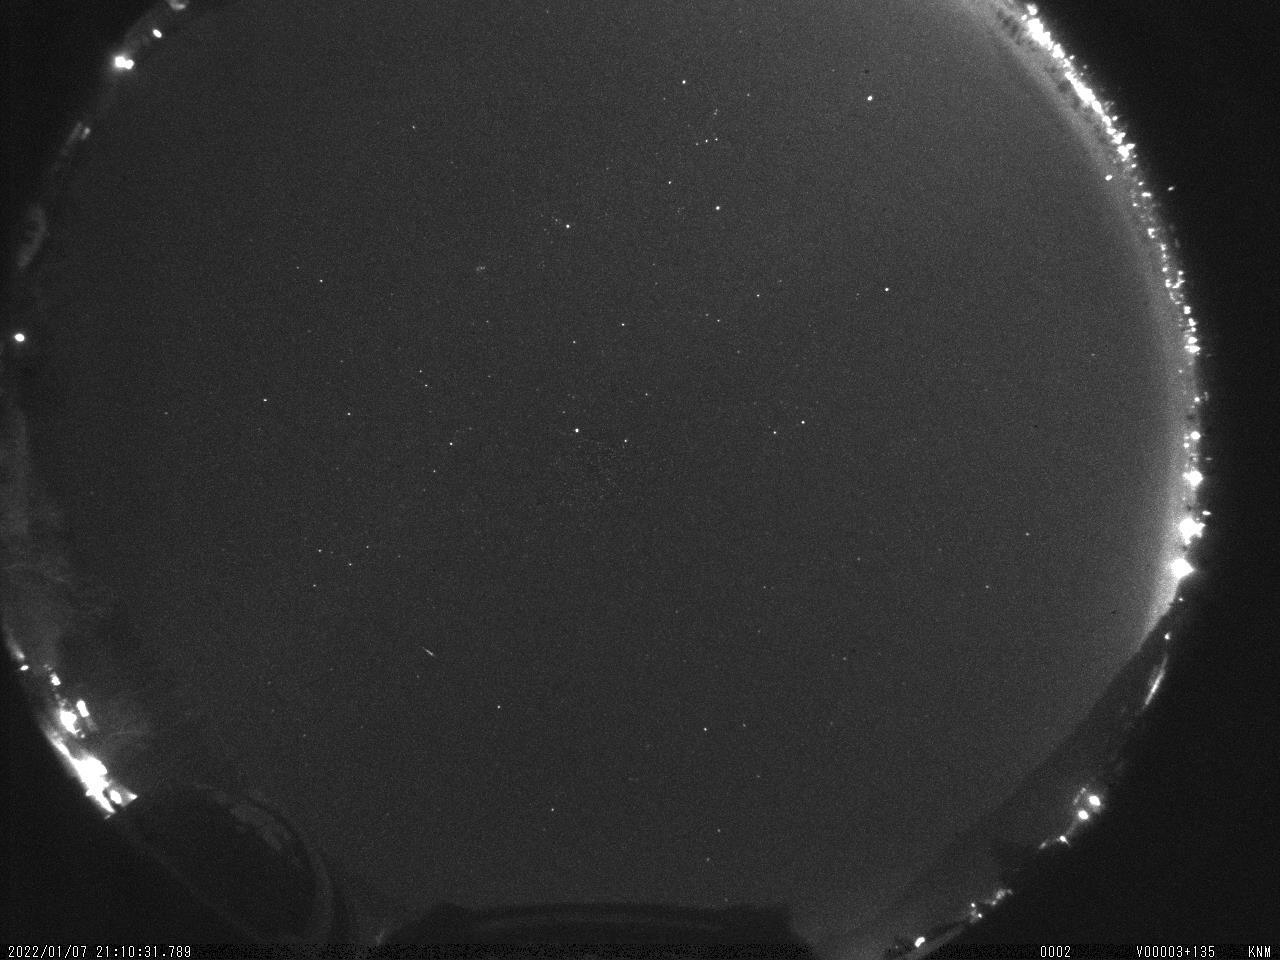Meteor: (416, 642, 442, 664)
